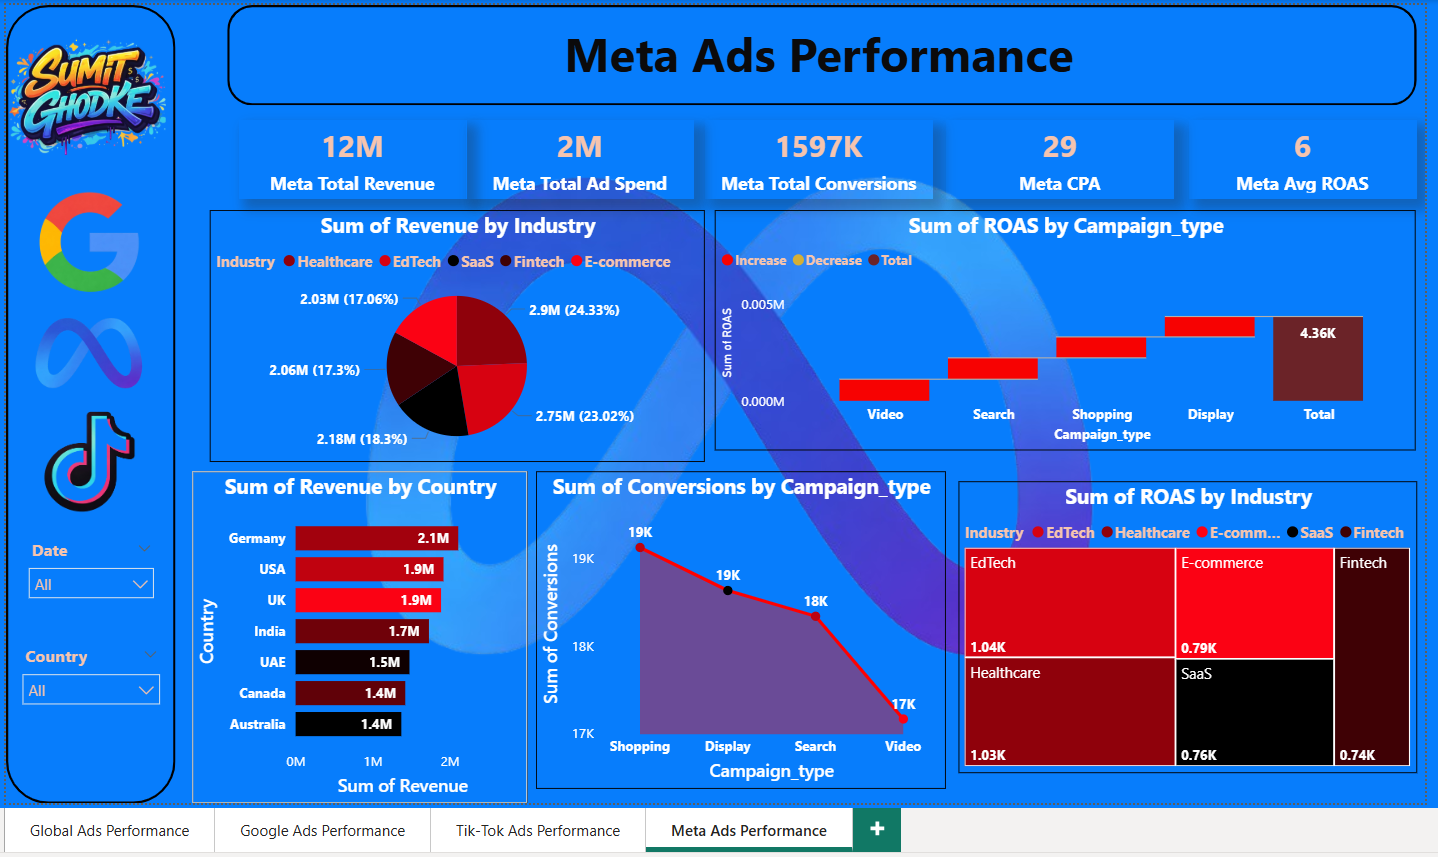

The dashboard page shown, as its layout file describes it:
{"tool":"powerbi","page":{"name":"Meta Ads Performance","canvas":[1280,720],"ordinal":3},"visuals":[{"type":"shape","box":[199.3,0,1072.4,90.5],"z":0},{"type":"shape","box":[0,0,152.9,720.2],"z":1000},{"type":"textbox","box":[209.1,8.6,1046.7,72.1],"z":2000},{"type":"image","box":[0,0,144.3,161.4],"z":3000},{"type":"image","box":[25.7,161.4,99,100.3],"z":4000},{"type":"image","box":[25.7,261.7,99,100.3],"z":5000},{"type":"image","box":[25.7,362,99,100.3],"z":6000},{"type":"slicer","fields":{"Values":["TikTok Ads.Date"]},"box":[9.8,475.7,133.3,75.8],"z":7000},{"type":"slicer","fields":{"Values":["Google Ads.Country"]},"box":[4.9,571.1,144.3,79.5],"z":8000},{"type":"card","fields":{"Values":["Google Ads.Meta Total Revenue"]},"box":[209.1,103.9,205.4,70.9],"z":9000},{"type":"card","fields":{"Values":["Google Ads.Meta Total Ad Spend"]},"box":[414.5,103.9,205.4,70.9],"z":10000},{"type":"card","fields":{"Values":["Google Ads.Meta Total Conversions"]},"box":[629.8,103.9,205.4,70.9],"z":11000},{"type":"card","fields":{"Values":["Google Ads.Meta CPA"]},"box":[847.4,103.9,205.4,70.9],"z":12000},{"type":"card","fields":{"Values":["Google Ads.Meta Avg ROAS"]},"box":[1066.3,103.9,205.4,70.9],"z":13000},{"type":"waterfallChart","fields":{"Y":["Sum(Meta Ads.ROAS)"],"Category":["Meta Ads.Campaign_type"]},"box":[639.5,184.6,632.2,216.4],"z":14000},{"type":"pieChart","fields":{"Category":["Meta Ads.Industry"],"Y":["Sum(Meta Ads.Revenue)"]},"box":[183.4,184.6,446.3,227.4],"z":15000},{"type":"clusteredBarChart","fields":{"Category":["Meta Ads.Country"],"Y":["Sum(Meta Ads.Revenue)"]},"box":[167.5,420.7,302,299.6],"z":16000},{"type":"areaChart","fields":{"Category":["Meta Ads.Campaign_type"],"Y":["Sum(Meta Ads.Conversions)"]},"box":[478.1,420.7,369.3,286.1],"z":17000},{"type":"treemap","fields":{"Values":["Sum(Meta Ads.ROAS)"],"Group":["Meta Ads.Industry"]},"box":[858.4,429.2,413.3,262.9],"z":18000}]}

Visuals, with their boxes on the page's 1280x720 design canvas (x1, y1, x2, y2). These are canvas units, not pixel positions in the 1438x857 screenshot, which may show the page scaled, cropped or inside an application window:
shape: {"x1": 199, "y1": 0, "x2": 1272, "y2": 90}
shape: {"x1": 0, "y1": 0, "x2": 153, "y2": 720}
textbox: {"x1": 209, "y1": 9, "x2": 1256, "y2": 81}
image: {"x1": 0, "y1": 0, "x2": 144, "y2": 161}
image: {"x1": 26, "y1": 161, "x2": 125, "y2": 262}
image: {"x1": 26, "y1": 262, "x2": 125, "y2": 362}
image: {"x1": 26, "y1": 362, "x2": 125, "y2": 462}
slicer - TikTok Ads.Date: {"x1": 10, "y1": 476, "x2": 143, "y2": 552}
slicer - Google Ads.Country: {"x1": 5, "y1": 571, "x2": 149, "y2": 651}
card - Google Ads.Meta Total Revenue: {"x1": 209, "y1": 104, "x2": 414, "y2": 175}
card - Google Ads.Meta Total Ad Spend: {"x1": 414, "y1": 104, "x2": 620, "y2": 175}
card - Google Ads.Meta Total Conversions: {"x1": 630, "y1": 104, "x2": 835, "y2": 175}
card - Google Ads.Meta CPA: {"x1": 847, "y1": 104, "x2": 1053, "y2": 175}
card - Google Ads.Meta Avg ROAS: {"x1": 1066, "y1": 104, "x2": 1272, "y2": 175}
waterfallChart - Sum(Meta Ads.ROAS) x Meta Ads.Campaign_type: {"x1": 640, "y1": 185, "x2": 1272, "y2": 401}
pieChart - Meta Ads.Industry x Sum(Meta Ads.Revenue): {"x1": 183, "y1": 185, "x2": 630, "y2": 412}
clusteredBarChart - Meta Ads.Country x Sum(Meta Ads.Revenue): {"x1": 168, "y1": 421, "x2": 470, "y2": 720}
areaChart - Meta Ads.Campaign_type x Sum(Meta Ads.Conversions): {"x1": 478, "y1": 421, "x2": 847, "y2": 707}
treemap - Sum(Meta Ads.ROAS) x Meta Ads.Industry: {"x1": 858, "y1": 429, "x2": 1272, "y2": 692}
